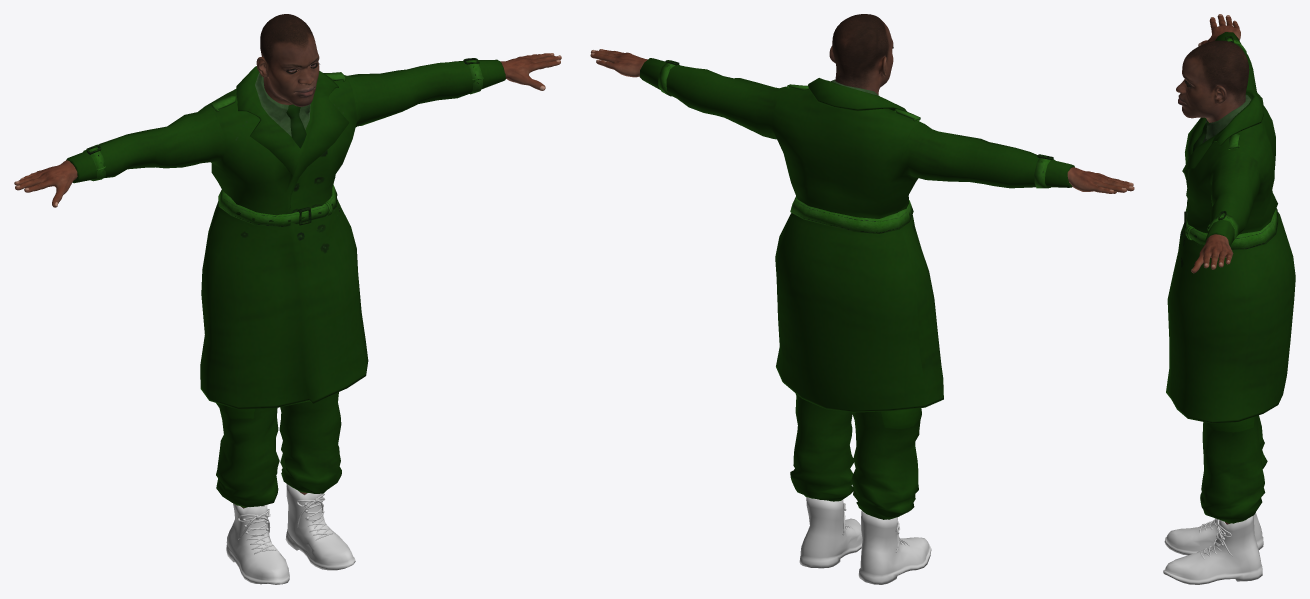
The model's file is Inimigo2.obj.
The picture shows the model from 3 angles, left to right: view 1: azimuth 30°, elevation 25°; view 2: azimuth 150°, elevation 25°; view 3: azimuth 270°, elevation 25°; orthographic projection. The views are drawn at different scales.
Parts seen in each view (by area): view 1: Tops, Bottoms, Body, Shoes; view 2: Tops, Bottoms, Shoes, Body; view 3: Tops, Body, Bottoms, Shoes.
Part boxes in pixels (left/top/right/bottom): Tops: left=66, top=58, right=505, bottom=409; Bottoms: left=216, top=392, right=341, bottom=507; Body: left=14, top=14, right=561, bottom=508; Shoes: left=226, top=484, right=355, bottom=584; Tops: left=639, top=58, right=1074, bottom=412; Bottoms: left=790, top=393, right=921, bottom=519; Shoes: left=799, top=497, right=931, bottom=584; Body: left=590, top=14, right=1134, bottom=193; Tops: left=1166, top=32, right=1295, bottom=423; Body: left=1176, top=14, right=1249, bottom=524; Bottoms: left=1200, top=415, right=1267, bottom=523; Shoes: left=1163, top=512, right=1263, bottom=584.
Bounding box in the file's own units: 193 × 184 × 42.49.
